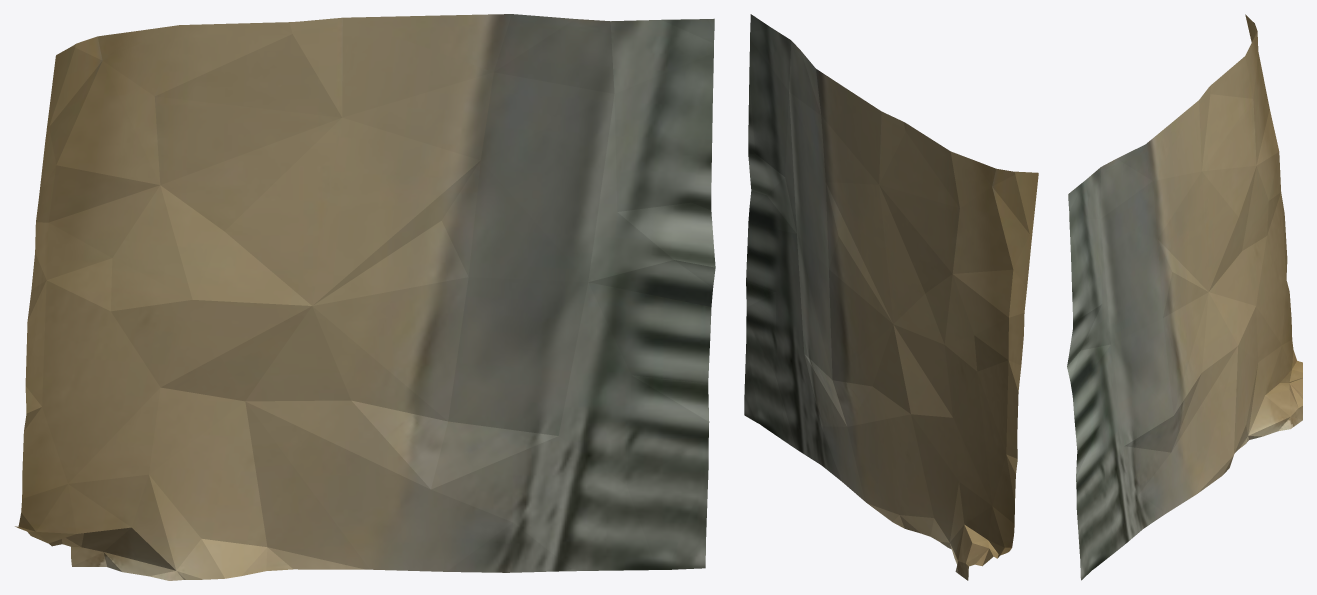
The picture shows the model from 3 angles, left to right: view 1: azimuth 30°, elevation 25°; view 2: azimuth 150°, elevation 25°; view 3: azimuth 270°, elevation 25°; orthographic projection. The views are drawn at different scales.
Bounding box in the file's own units: 0.8374 × 0.8374 × 0.463.
3 materials, 3 textured.
